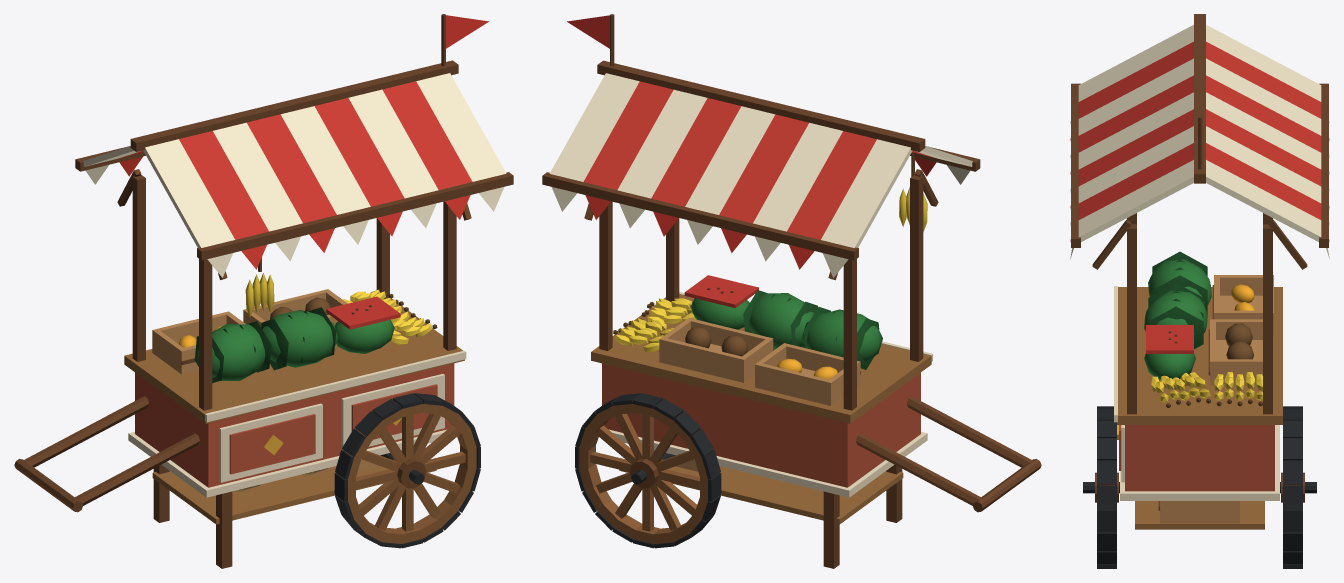
Rendered from carrito-frutas-3.glb.
3 renders of one model, left to right at view 1: azimuth 30°, elevation 25°; view 2: azimuth 150°, elevation 25°; view 3: azimuth 270°, elevation 25°, orthographic. The views are drawn at different scales.
Parts seen in each view (by area): view 1: Carrito_Frutas_3_MaderaOscura, Carrito_Frutas_3_LonaCrema, Carrito_Frutas_3_LonaRoja, Carrito_Frutas_3_TapaMadera, Carrito_Frutas_3_CuerpoLadrillo, Carrito_Frutas_3_RuedaMadera, Carrito_Frutas_3_PanelCrema, Carrito_Frutas_3_FrutaSandia, Carrito_Frutas_3_Hierro, Carrito_Frutas_3_MaderaCajon, Carrito_Frutas_3_BanderinRojo, Carrito_Frutas_3_FrutaBanano (+2 smaller); view 2: Carrito_Frutas_3_MaderaOscura, Carrito_Frutas_3_LonaCrema, Carrito_Frutas_3_LonaRoja, Carrito_Frutas_3_CuerpoLadrillo, Carrito_Frutas_3_TapaMadera, Carrito_Frutas_3_RuedaMadera, Carrito_Frutas_3_MaderaCajon, Carrito_Frutas_3_FrutaSandia, Carrito_Frutas_3_Hierro, Carrito_Frutas_3_PanelCrema, Carrito_Frutas_3_FrutaBanano, Carrito_Frutas_3_BanderinRojo (+3 smaller); view 3: Carrito_Frutas_3_LonaCrema, Carrito_Frutas_3_LonaRoja, Carrito_Frutas_3_TapaMadera, Carrito_Frutas_3_CuerpoLadrillo, Carrito_Frutas_3_MaderaOscura, Carrito_Frutas_3_Hierro, Carrito_Frutas_3_MaderaCajon, Carrito_Frutas_3_FrutaSandia, Carrito_Frutas_3_PanelCrema, Carrito_Frutas_3_FrutaBanano, Carrito_Frutas_3_FrutaSandiaRayas, Carrito_Frutas_3_FrutaCoco (+1 smaller).
Part boxes in pixels (x1,y1,x2,y2): Carrito_Frutas_3_MaderaOscura: [14, 14, 513, 568]; Carrito_Frutas_3_LonaCrema: [83, 73, 506, 247]; Carrito_Frutas_3_LonaRoja: [119, 81, 472, 329]; Carrito_Frutas_3_TapaMadera: [124, 298, 464, 524]; Carrito_Frutas_3_CuerpoLadrillo: [135, 363, 454, 487]; Carrito_Frutas_3_RuedaMadera: [345, 404, 476, 543]; Carrito_Frutas_3_PanelCrema: [128, 350, 466, 497]; Carrito_Frutas_3_FrutaSandia: [197, 310, 394, 380]; Carrito_Frutas_3_Hierro: [334, 393, 480, 548]; Carrito_Frutas_3_MaderaCajon: [152, 289, 401, 471]; Carrito_Frutas_3_BanderinRojo: [119, 15, 488, 269]; Carrito_Frutas_3_FrutaBanano: [245, 272, 432, 344]; Carrito_Frutas_3_MaderaOscura: [542, 14, 1041, 568]; Carrito_Frutas_3_LonaCrema: [549, 73, 972, 247]; Carrito_Frutas_3_LonaRoja: [583, 81, 934, 308]; Carrito_Frutas_3_CuerpoLadrillo: [602, 363, 920, 487]; Carrito_Frutas_3_TapaMadera: [591, 294, 931, 524]; Carrito_Frutas_3_RuedaMadera: [579, 404, 707, 543]; Carrito_Frutas_3_MaderaCajon: [654, 318, 860, 471]; Carrito_Frutas_3_FrutaSandia: [690, 293, 882, 361]; Carrito_Frutas_3_Hierro: [575, 393, 721, 548]; Carrito_Frutas_3_PanelCrema: [609, 292, 932, 497]; Carrito_Frutas_3_FrutaBanano: [615, 187, 927, 351]; Carrito_Frutas_3_BanderinRojo: [567, 15, 936, 269]; Carrito_Frutas_3_LonaCrema: [1078, 25, 1321, 241]; Carrito_Frutas_3_LonaRoja: [1078, 41, 1321, 353]; Carrito_Frutas_3_TapaMadera: [1117, 287, 1282, 529]; Carrito_Frutas_3_CuerpoLadrillo: [1119, 425, 1274, 491]; Carrito_Frutas_3_MaderaOscura: [1071, 14, 1328, 510]; Carrito_Frutas_3_Hierro: [1083, 406, 1316, 568]; Carrito_Frutas_3_MaderaCajon: [1160, 275, 1273, 523]; Carrito_Frutas_3_FrutaSandia: [1144, 259, 1211, 380]; Carrito_Frutas_3_PanelCrema: [1114, 286, 1279, 500]; Carrito_Frutas_3_FrutaBanano: [1151, 372, 1262, 402]; Carrito_Frutas_3_FrutaSandiaRayas: [1148, 251, 1207, 349]; Carrito_Frutas_3_FrutaCoco: [1225, 323, 1253, 359].
Size of the model in its own units: 2.63 by 2.67 by 1.3.
